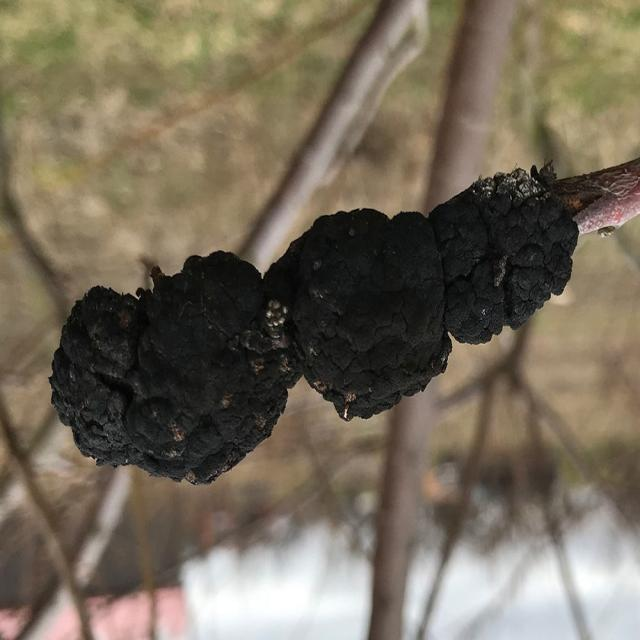Black_knot: (47, 160, 582, 486), (48, 248, 300, 486), (271, 205, 452, 422), (429, 162, 579, 346)
